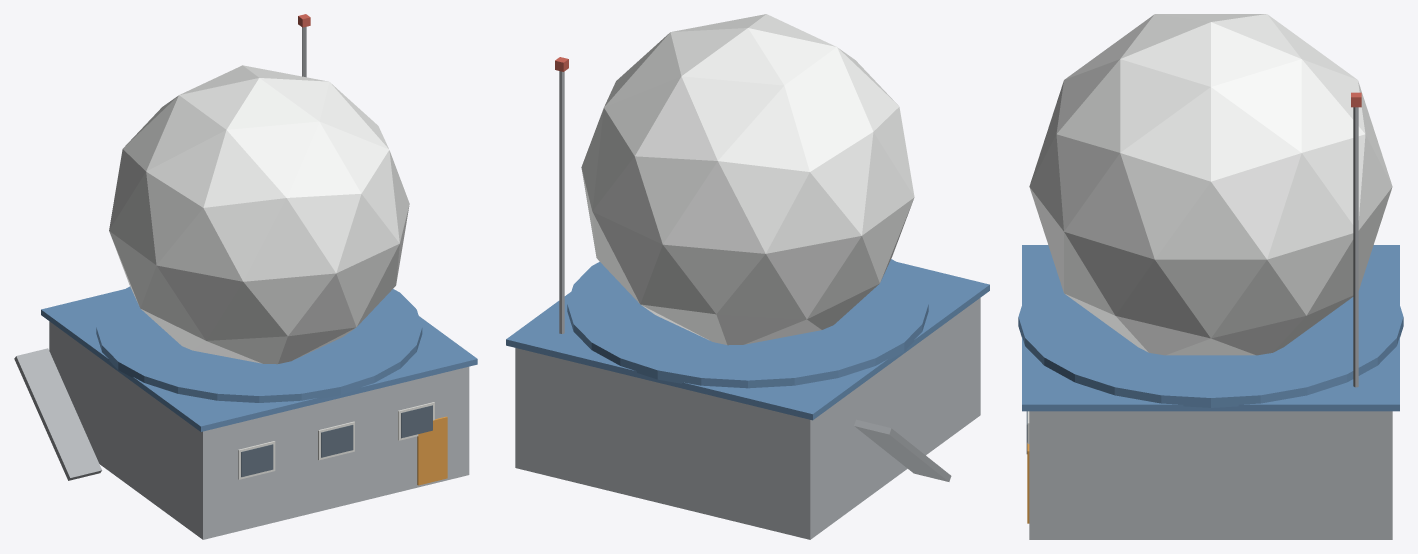
File: RadarDome.glb
The picture shows the model from 3 angles, left to right: view 1: azimuth 30°, elevation 25°; view 2: azimuth 150°, elevation 25°; view 3: azimuth 270°, elevation 25°; orthographic projection. The views are drawn at different scales.
Visible parts, largest first — view 1: Radome, Equipment hall, Radome ring, Hall roof, Stair, Door.003, Window.030, Window.031, Window.032; view 2: Radome, Equipment hall, Radome ring, Hall roof, Stair, Limb.042; view 3: Radome, Equipment hall, Radome ring, Hall roof, Limb.042.
Part boxes in pixels (box(x1,y1,x2,y2)): Radome: box(109, 65, 409, 364); Equipment hall: box(49, 321, 469, 539); Radome ring: box(96, 286, 422, 402); Hall roof: box(41, 289, 477, 431); Stair: box(14, 348, 101, 480); Door.003: box(417, 416, 447, 485); Window.030: box(241, 444, 273, 477); Window.031: box(321, 425, 353, 457); Window.032: box(401, 405, 432, 438); Radome: box(581, 14, 914, 345); Equipment hall: box(515, 298, 980, 539); Radome ring: box(567, 259, 928, 388); Hall roof: box(506, 262, 989, 420); Stair: box(854, 419, 951, 481); Limb.042: box(559, 71, 564, 333); Radome: box(1029, 14, 1392, 355); Equipment hall: box(1029, 411, 1392, 539); Radome ring: box(1018, 269, 1403, 407); Hall roof: box(1022, 245, 1399, 411); Limb.042: box(1353, 107, 1358, 387).
Bounding box in the file's own units: 12.3 × 13.4 × 10.6.
